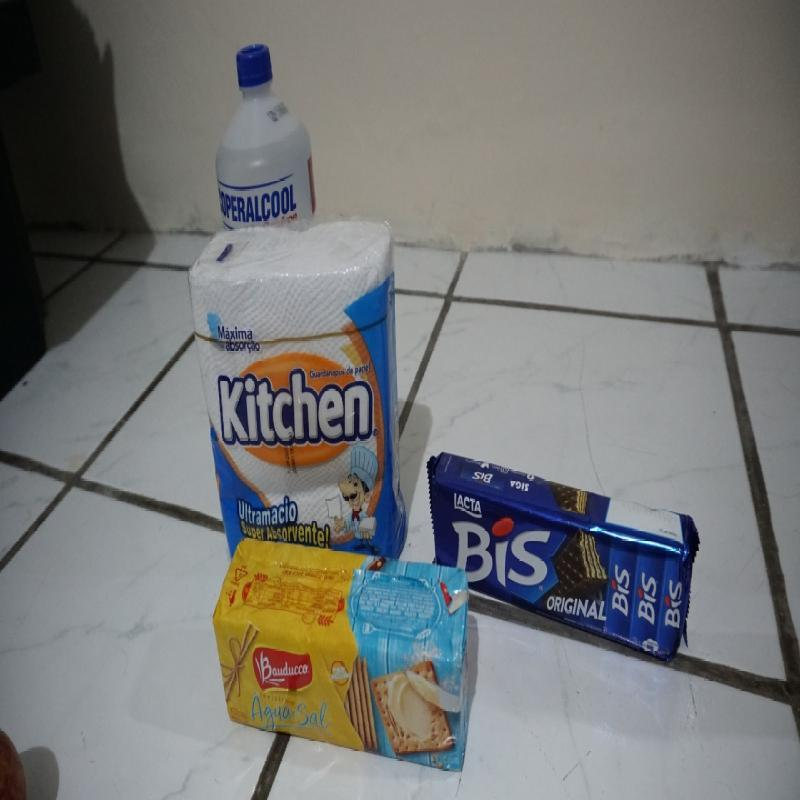Alcohol Bottle: (208, 37, 323, 220)
Cracker: (208, 548, 474, 764)
Napkin: (194, 228, 404, 544)
